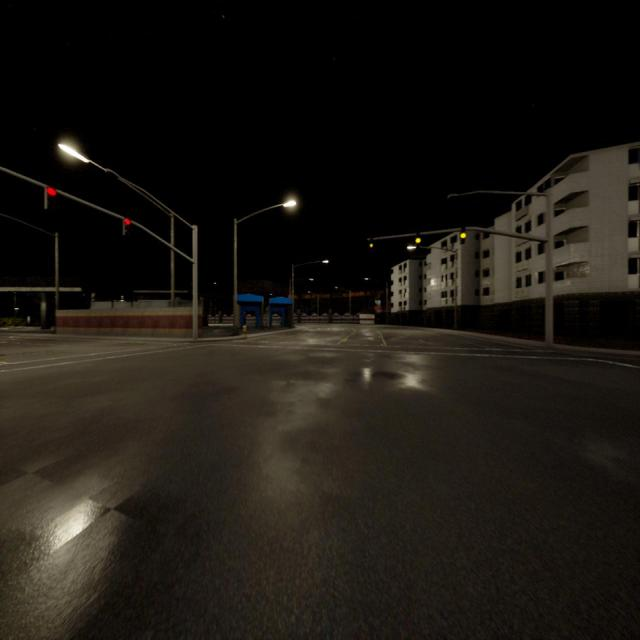Pedestrian: (242, 324, 246, 338)
traffic_light: (45, 188, 56, 208), (123, 218, 130, 234), (460, 229, 465, 244), (416, 233, 420, 243), (370, 240, 373, 247)
